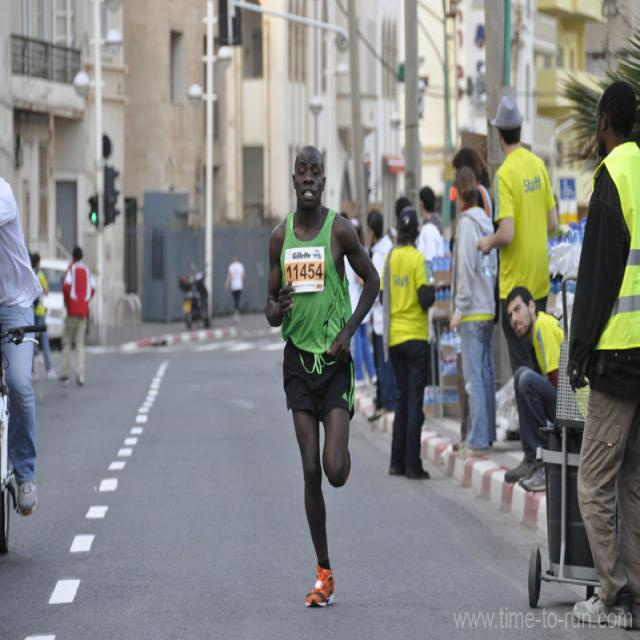Bib: (289, 264, 330, 284)
